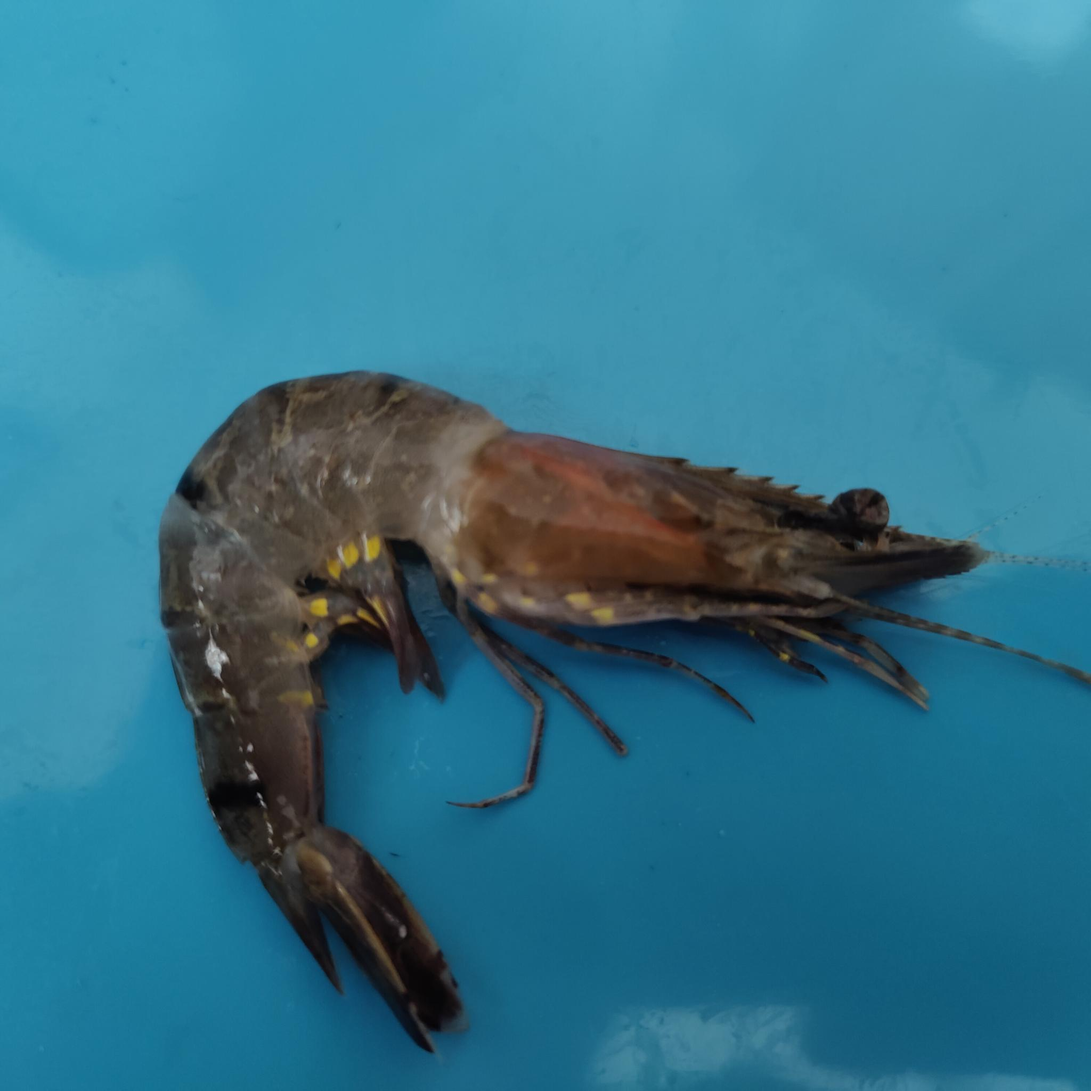whitespot: (467, 444, 671, 578)
